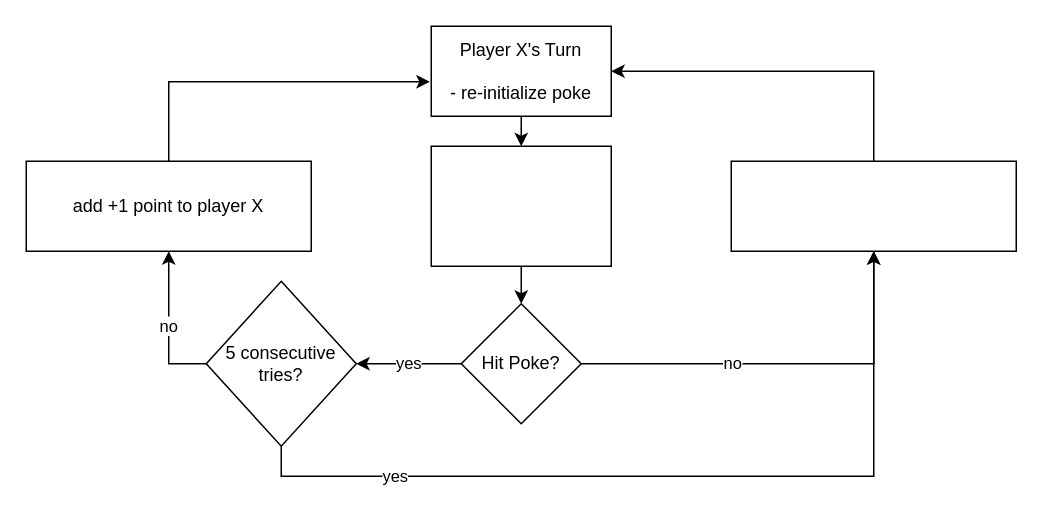
Some shapes in this 1043 by 515 pixel diagram are drawn without their labels. Here are the shapes that lost their labels. From the top down, the centre of each, then its label:
At (x=520, y=205): "Throw Ball - aim up / down - more / less throwing force".
At (x=873, y=205): "toggle player".
